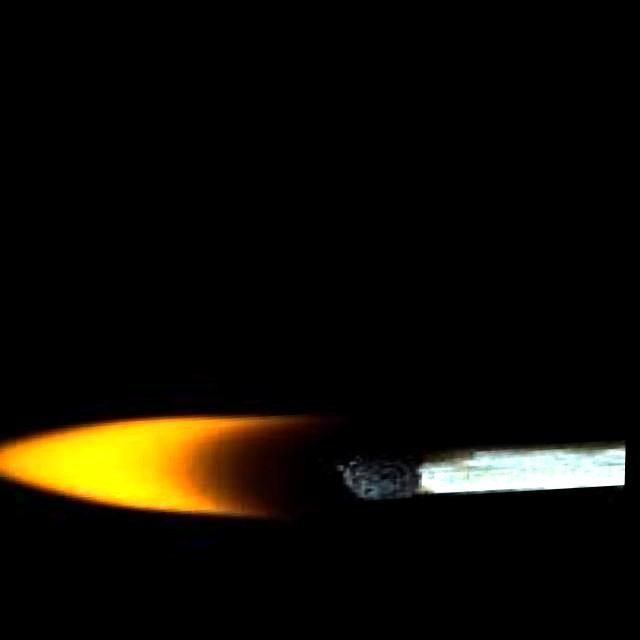fire: (0, 400, 350, 544)
